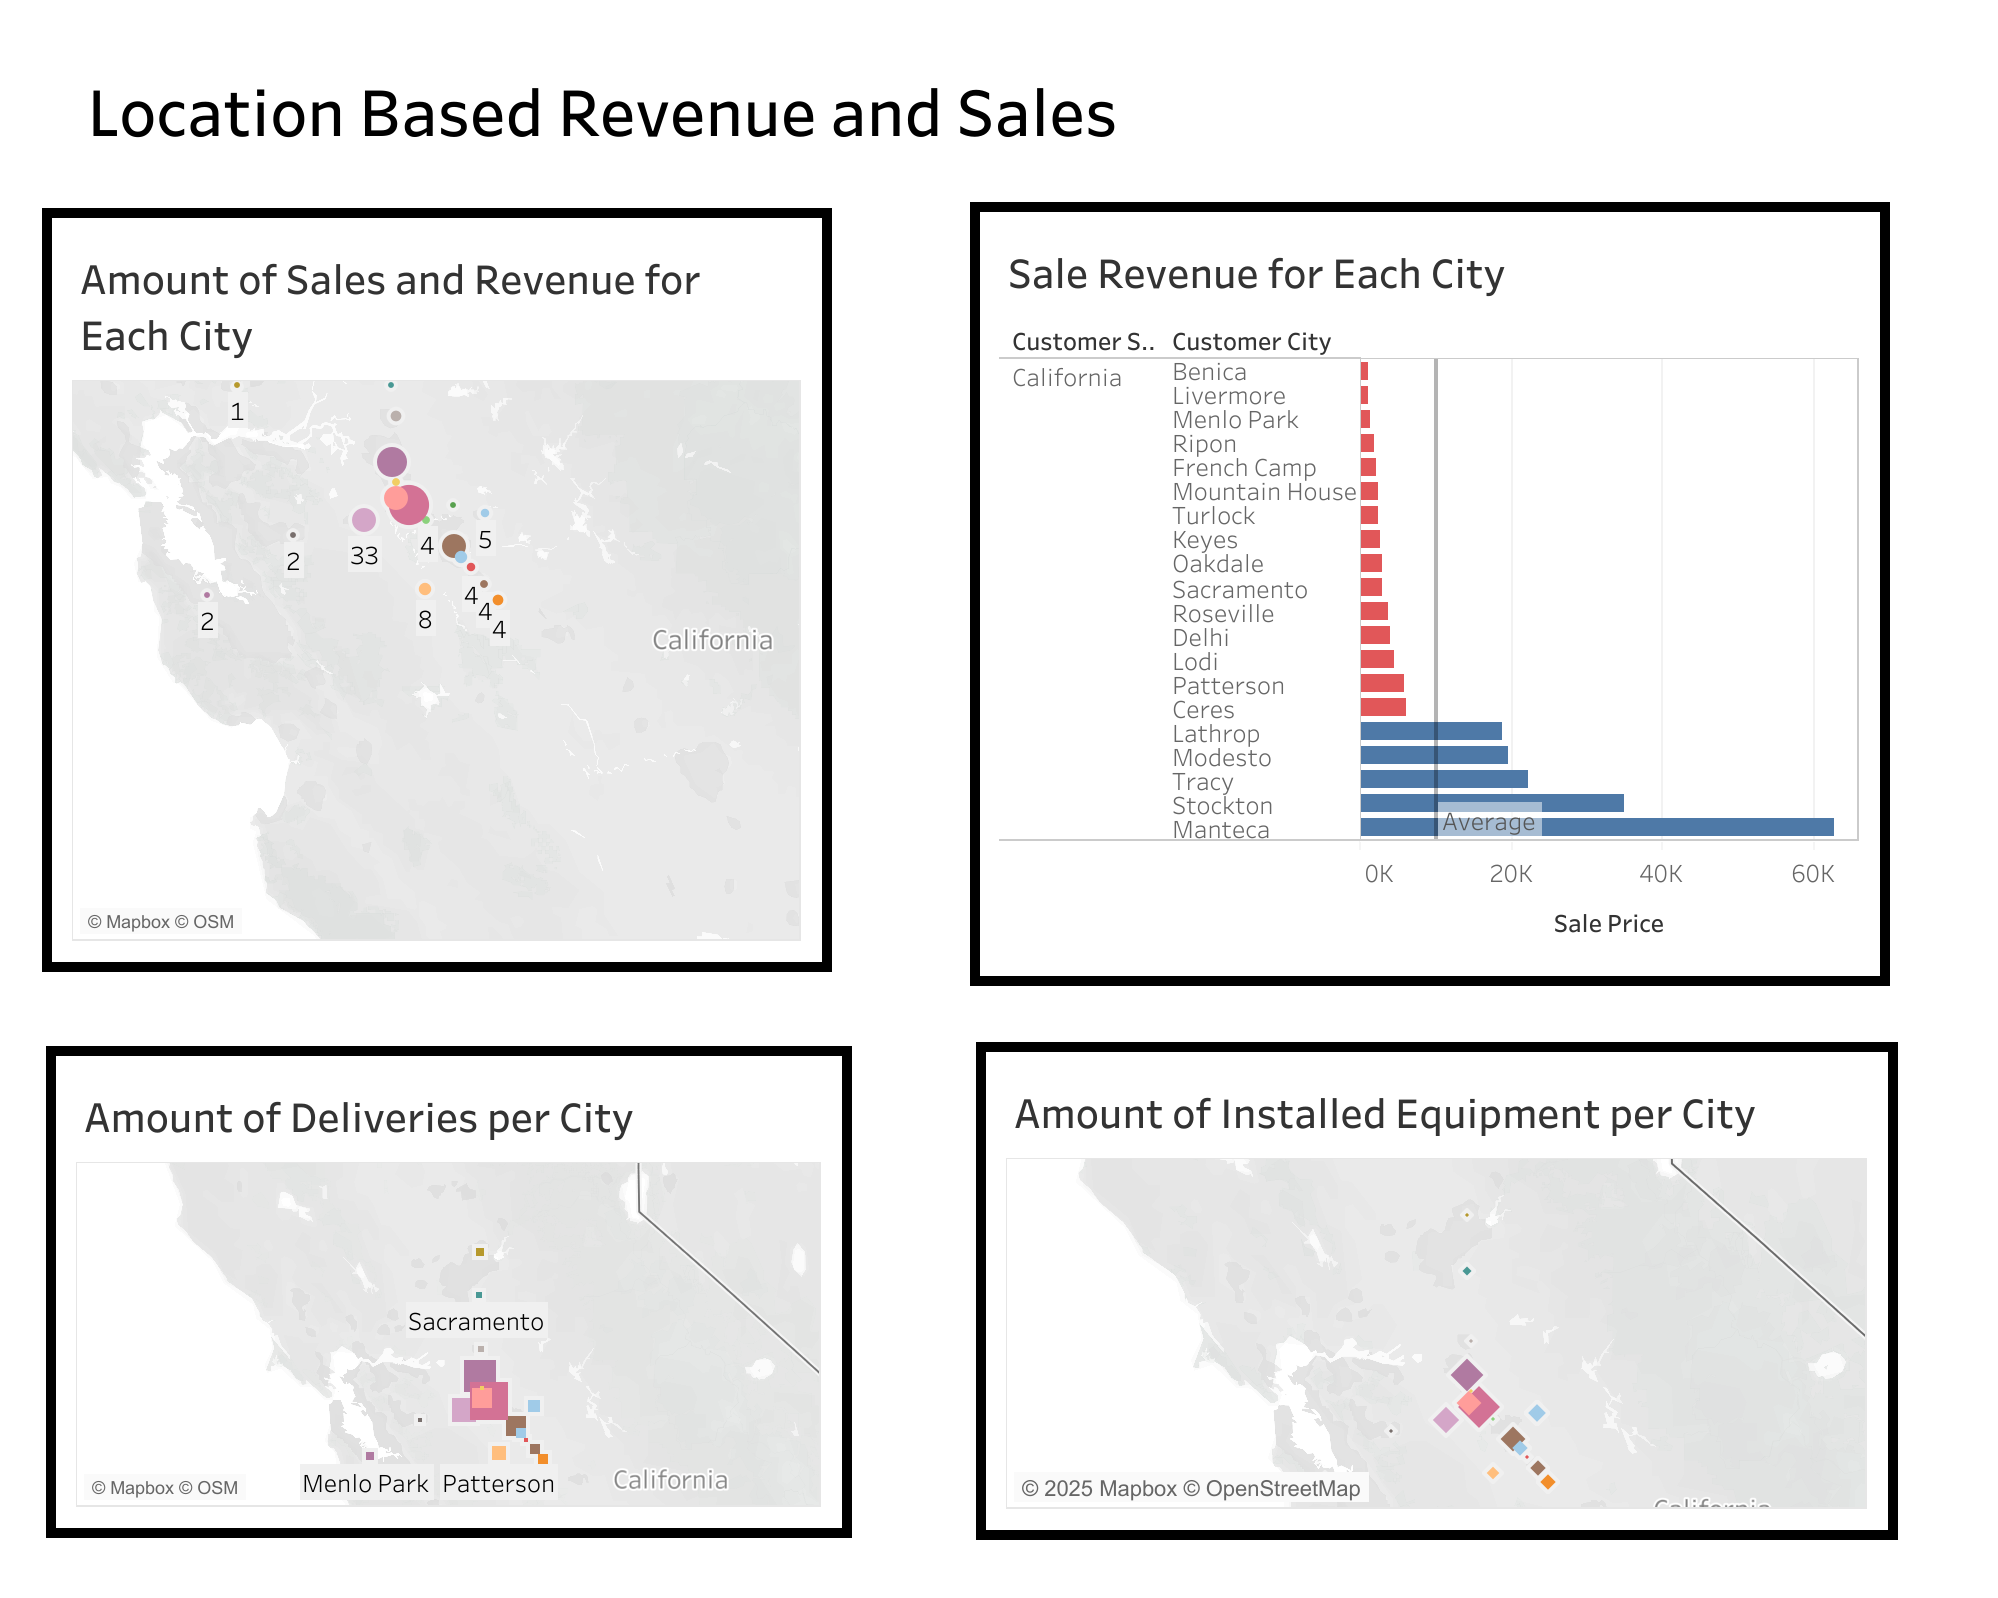

Layout of this report page (visuals, bound fields, positions):
{"tool":"tableau","page":{"name":"Dashboard 1","canvas":[1000,800],"ordinal":0},"visuals":[{"type":"text","box":[41,11,664,88]},{"type":"worksheet","title":"Sheet 2","mark":"Automatic","rows":["customer_state","customer_city"],"cols":["sale_price"],"box":[475,91,480,412]},{"type":"worksheet","title":"Sheet 1","mark":"Automatic","box":[11,94,415,402]},{"type":"worksheet","title":"Sheet 5","mark":"Shape","box":[478,511,481,269]},{"type":"worksheet","title":"Sheet 4","mark":"Square","box":[13,513,423,266]}]}

Visuals, with their boxes in screenshot pixels (x1, y1, x2, y2), scaled from the page's 1000x800 canvas onto the 1998x1598 screenshot:
text: locate(82, 22, 1409, 198)
"Sheet 2" worksheet: locate(949, 182, 1908, 1005)
"Sheet 1" worksheet: locate(22, 188, 851, 991)
"Sheet 5" worksheet (Shape marks): locate(955, 1021, 1916, 1558)
"Sheet 4" worksheet (Square marks): locate(26, 1025, 871, 1556)
